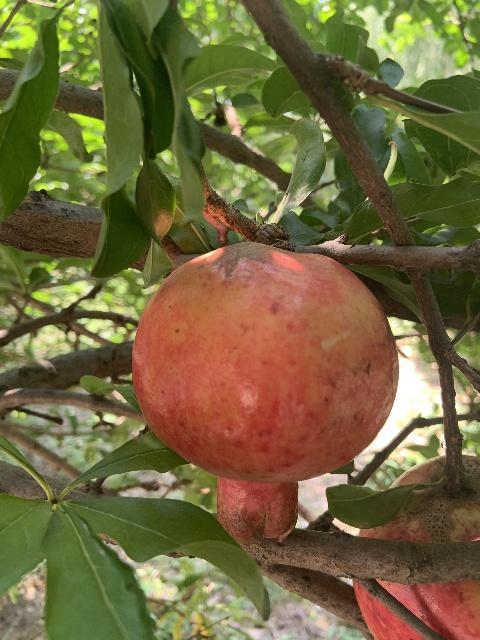ripe: (132, 242, 397, 544), (351, 454, 480, 640)
